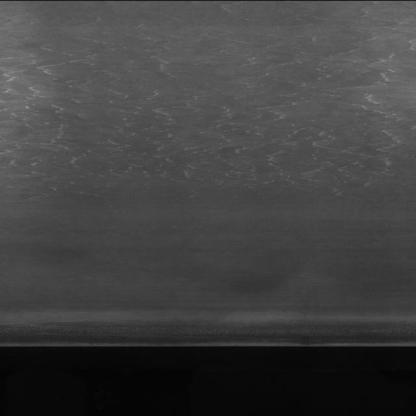silk_spot: (1, 36, 166, 178), (169, 40, 306, 180), (307, 50, 407, 172)
